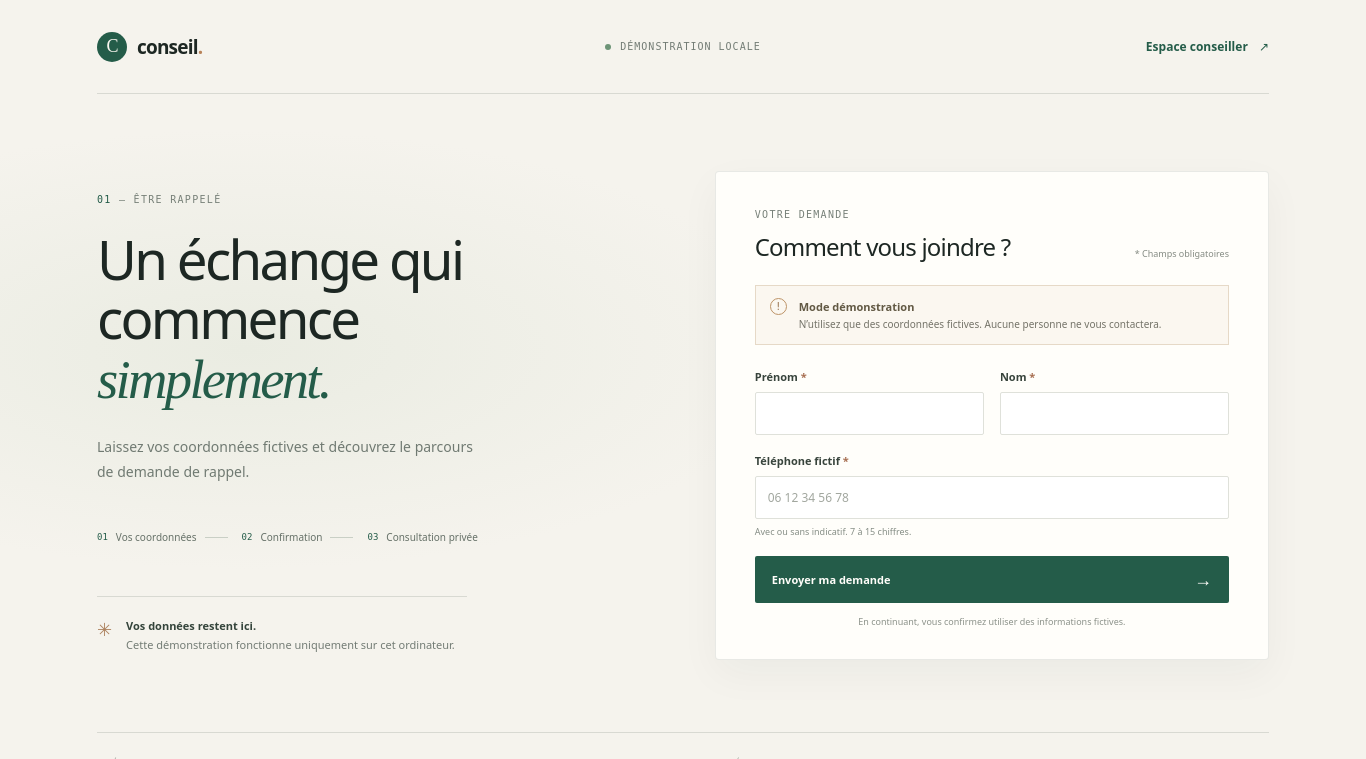
Scenario: callback request journey › keeps the form visible and gives a retry message when saving fails
Type "Camille" into the field labelled "Prénom *".
click(869, 413); type("Camille")  # box [755,392,984,435]
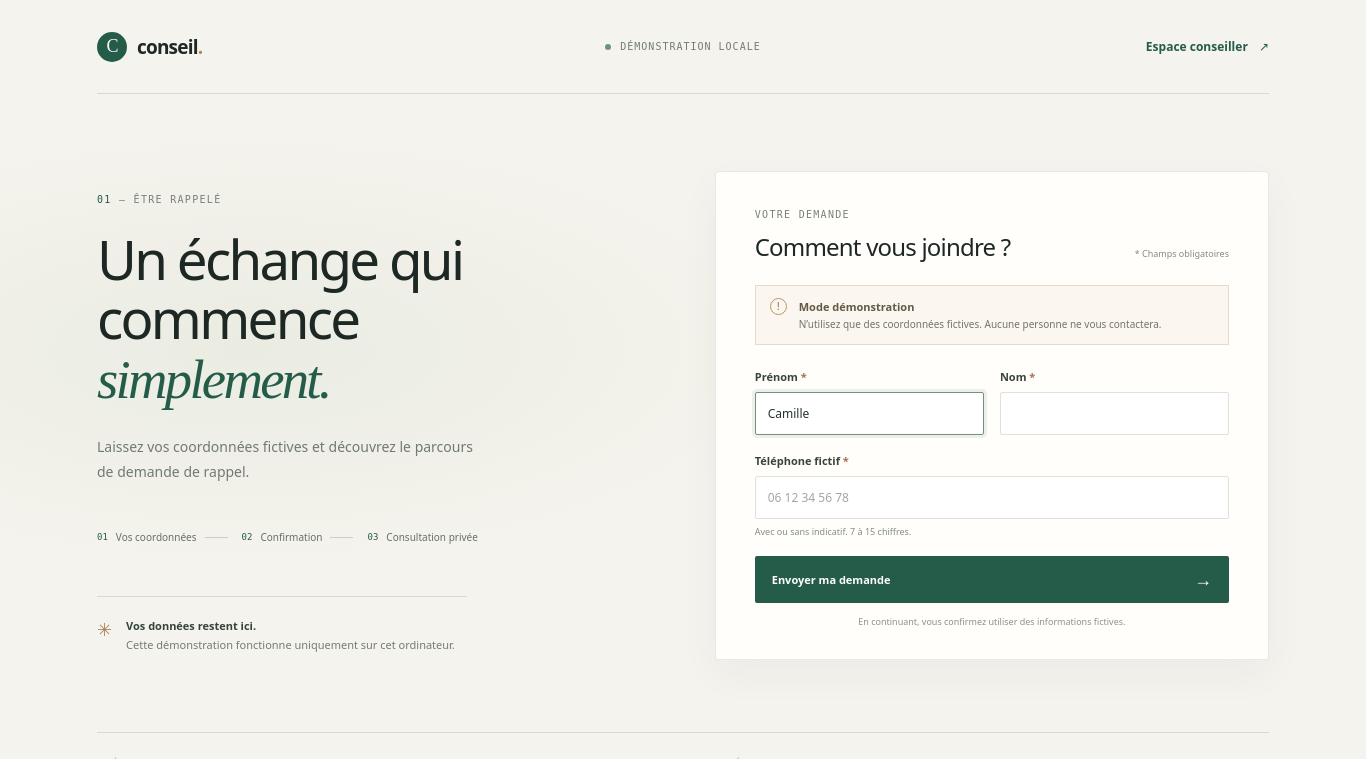
Type "Martin" into the field labelled "Nom *".
click(1114, 413); type("Martin")  # box [1000,392,1229,435]
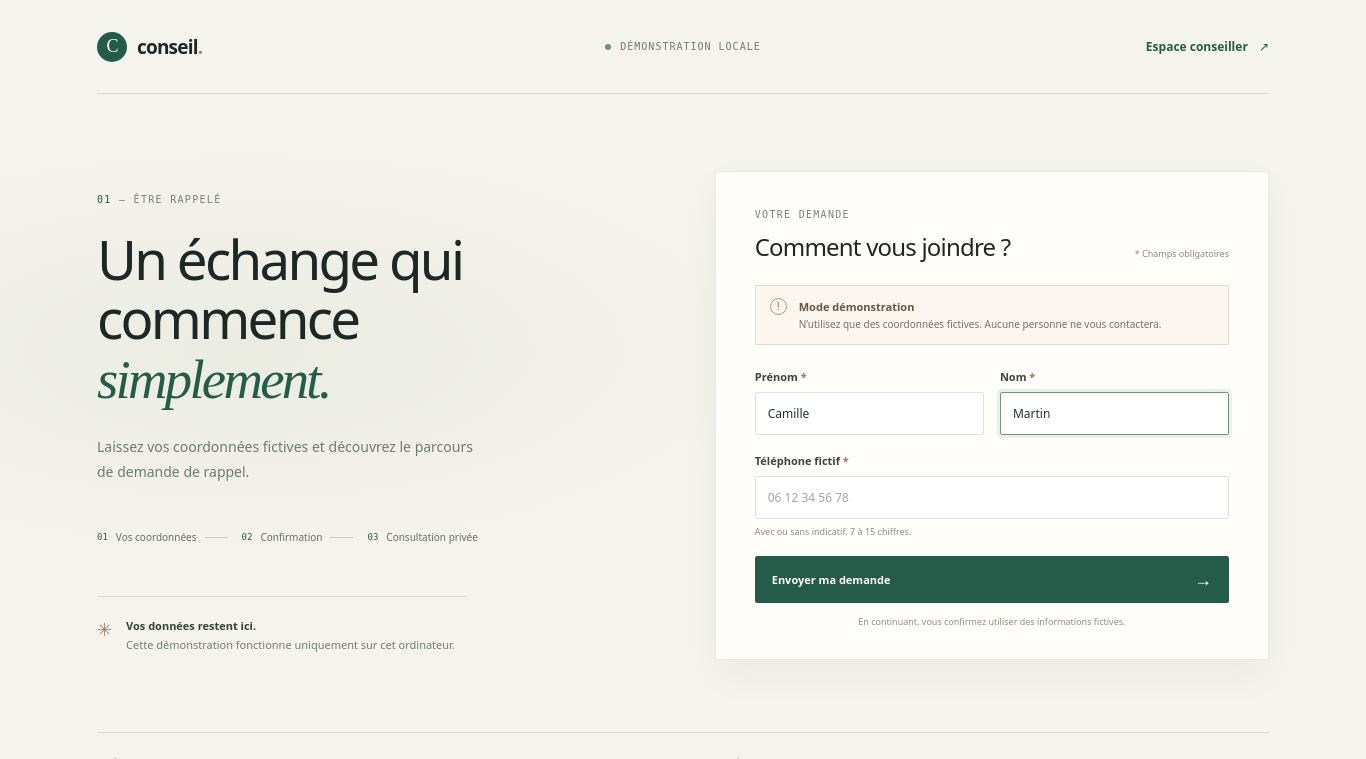
Type "0612345678" into the field labelled "Téléphone fictif *".
click(992, 497); type("0612345678")  # box [755,476,1229,519]
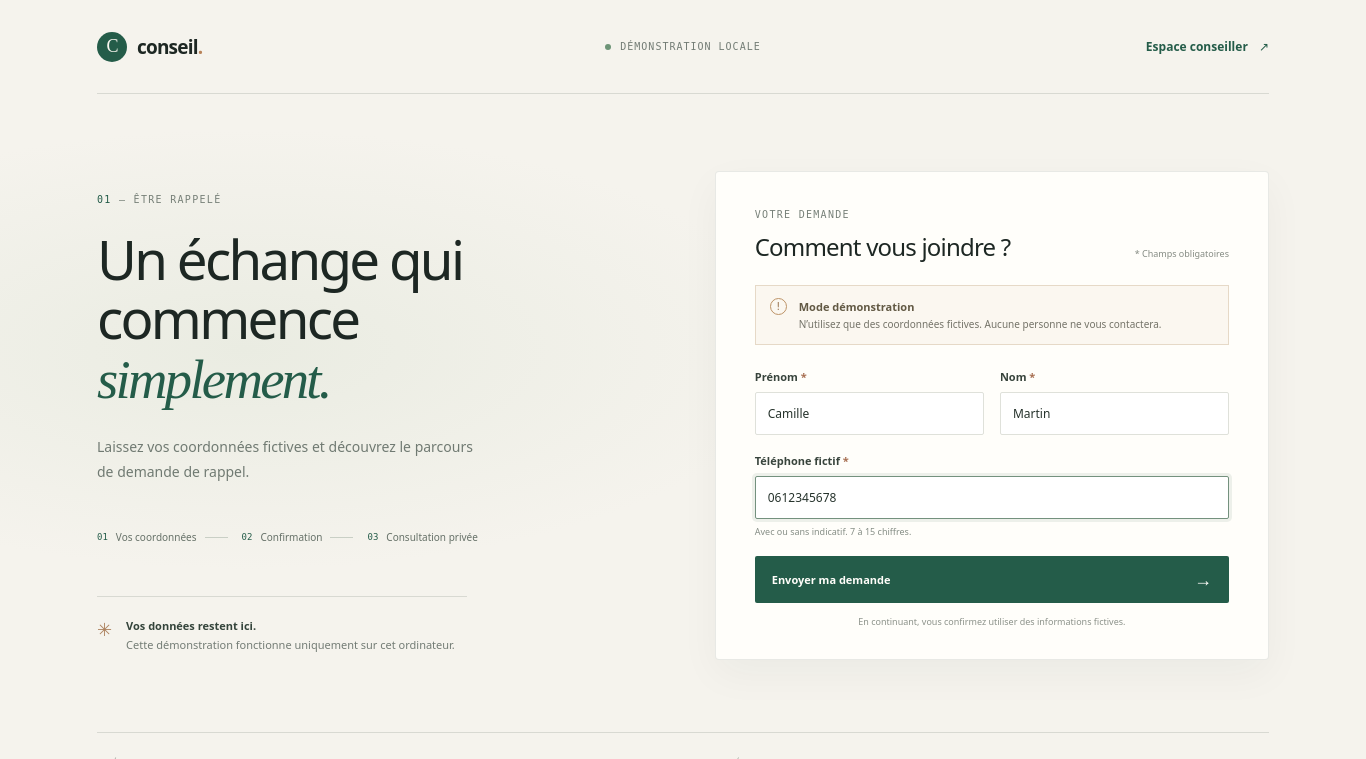
Click the button "Envoyer ma demande →".
click(831, 579)  # box [755,556,1229,603]
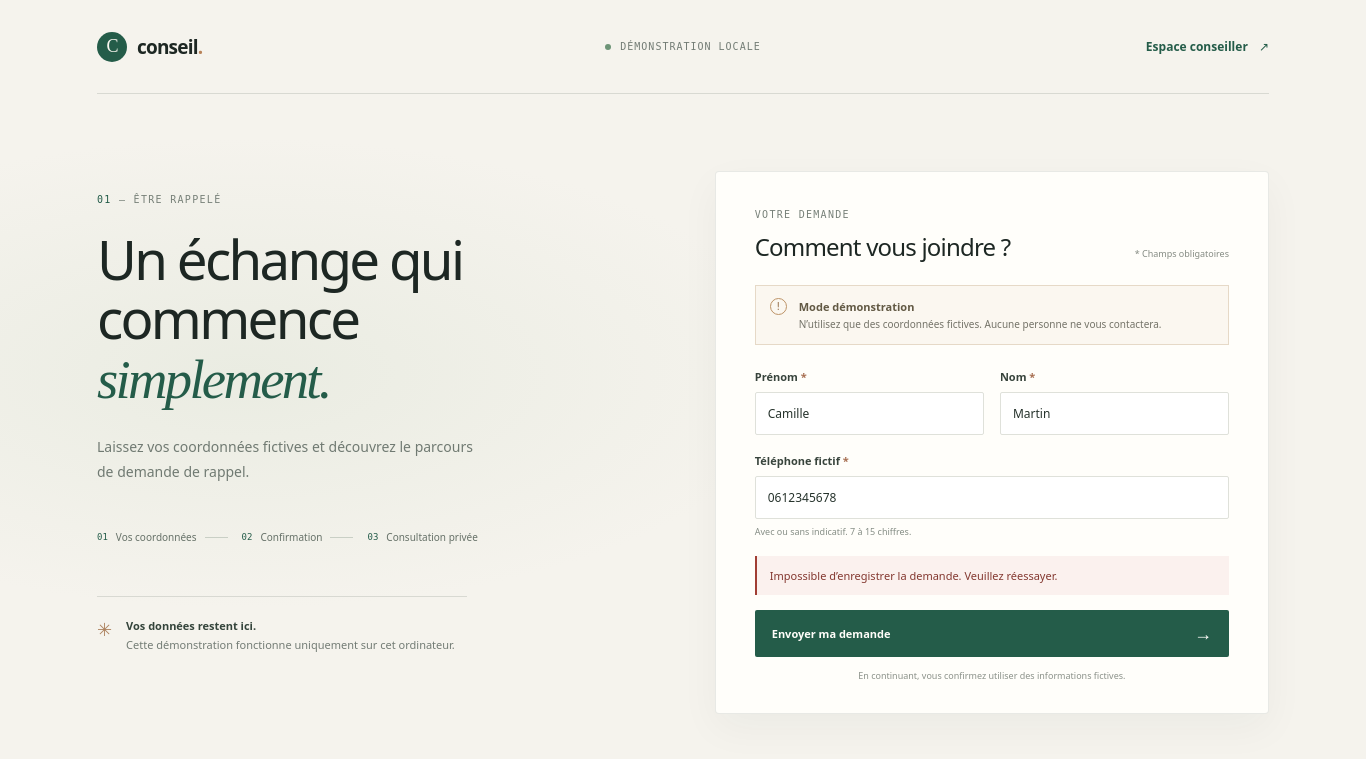
Check: the button "Envoyer ma demande →" is shown, box [755,610,1229,657]
Check: the message shows "réessayer", box [770,568,1057,583]
